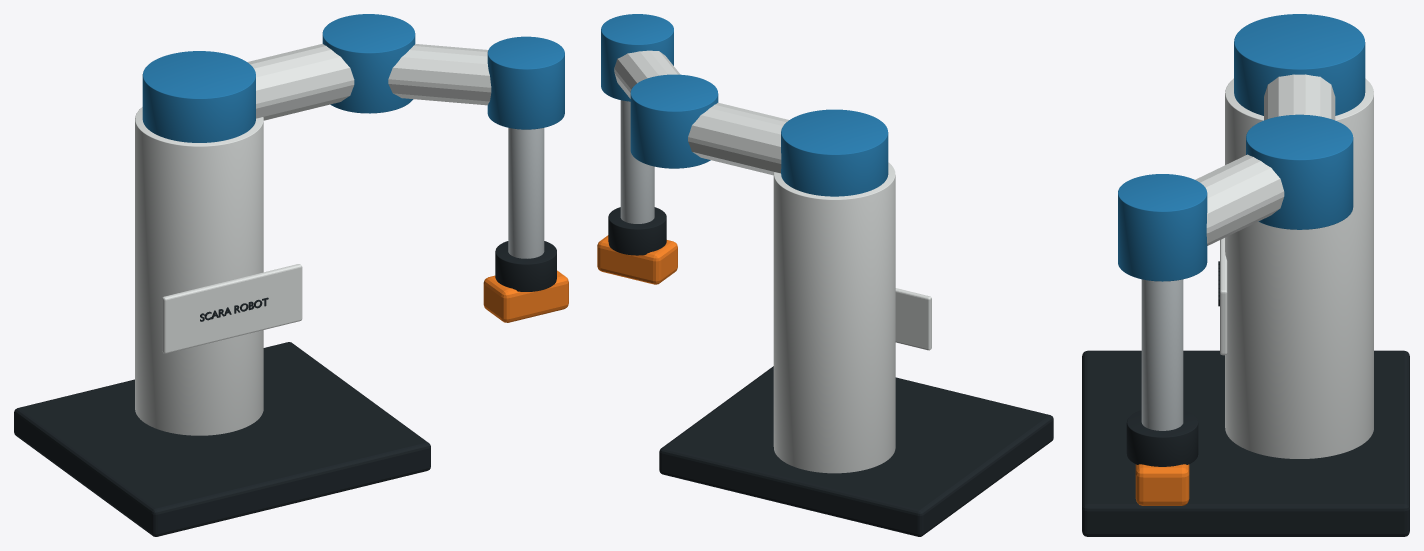
The model's file is scara_robot.glb.
3 views of the same model, side by side, from view 1: azimuth 30°, elevation 25°; view 2: azimuth 150°, elevation 25°; view 3: azimuth 270°, elevation 25° (orthographic). The views are drawn at different scales.
Visible parts, largest first — view 1: BASE, SCARA_PEDESTAL, KIN_JOINT_1, NAMEPLATE, KIN_JOINT_3, KIN_JOINT_2, ARM_1, ARM_2, KIN_Z_QUILL, TWO_JAW_GRIPPER, KIN_TOOL_ROTATION; view 2: SCARA_PEDESTAL, BASE, KIN_JOINT_1, KIN_JOINT_2, ARM_1, KIN_JOINT_3, KIN_Z_QUILL, TWO_JAW_GRIPPER, KIN_TOOL_ROTATION, NAMEPLATE, ARM_2; view 3: SCARA_PEDESTAL, BASE, KIN_JOINT_1, KIN_JOINT_2, KIN_JOINT_3, KIN_Z_QUILL, ARM_2, KIN_TOOL_ROTATION, ARM_1, TWO_JAW_GRIPPER, NAMEPLATE.
Part boxes in pixels (x1,y1,x2,y2): BASE: (14, 342, 430, 536); SCARA_PEDESTAL: (135, 107, 263, 435); KIN_JOINT_1: (142, 51, 255, 142); NAMEPLATE: (162, 264, 302, 353); KIN_JOINT_3: (487, 36, 564, 129); KIN_JOINT_2: (322, 14, 415, 113); ARM_1: (247, 43, 354, 120); ARM_2: (388, 44, 491, 105); KIN_Z_QUILL: (508, 128, 544, 258); TWO_JAW_GRIPPER: (483, 270, 568, 322); KIN_TOOL_ROTATION: (495, 241, 556, 291); SCARA_PEDESTAL: (773, 162, 895, 473); BASE: (659, 366, 1053, 536); KIN_JOINT_1: (781, 109, 888, 196); KIN_JOINT_2: (630, 74, 718, 168); ARM_1: (688, 102, 788, 175); KIN_JOINT_3: (601, 14, 673, 101); KIN_Z_QUILL: (620, 100, 654, 223); TWO_JAW_GRIPPER: (597, 235, 677, 284); KIN_TOOL_ROTATION: (608, 207, 666, 255); NAMEPLATE: (895, 288, 931, 350); ARM_2: (614, 50, 680, 98); SCARA_PEDESTAL: (1225, 78, 1373, 458); BASE: (1082, 350, 1409, 536); KIN_JOINT_1: (1234, 14, 1365, 115); KIN_JOINT_2: (1246, 114, 1353, 229); KIN_JOINT_3: (1118, 174, 1207, 281); KIN_Z_QUILL: (1141, 279, 1183, 430); ARM_2: (1195, 154, 1284, 245); KIN_TOOL_ROTATION: (1126, 410, 1198, 466); ARM_1: (1264, 74, 1335, 120); TWO_JAW_GRIPPER: (1135, 464, 1189, 505); NAMEPLATE: (1220, 238, 1227, 355).
Size of the model in its own units: 1.98 by 1.55 by 1.1.
